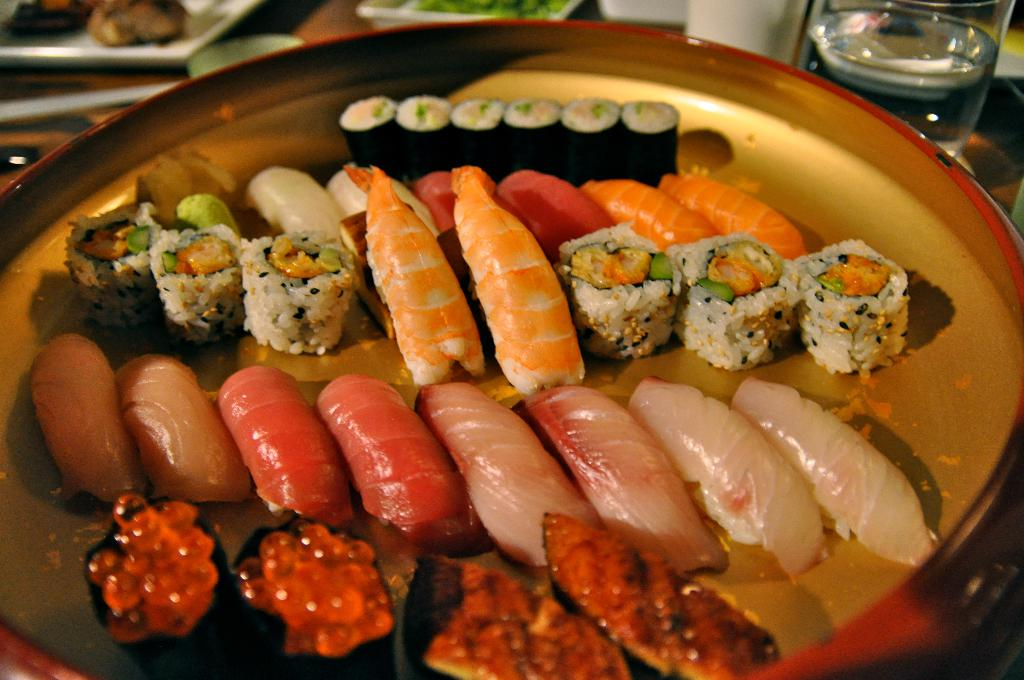sushi: (28, 101, 936, 679), (566, 235, 691, 362)
